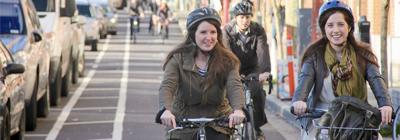With Helmet: (315, 2, 357, 44), (185, 6, 223, 52)
